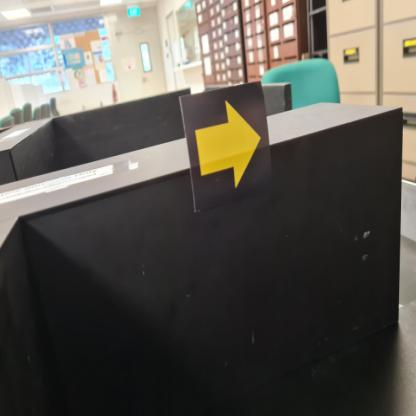right: (179, 81, 278, 213)
